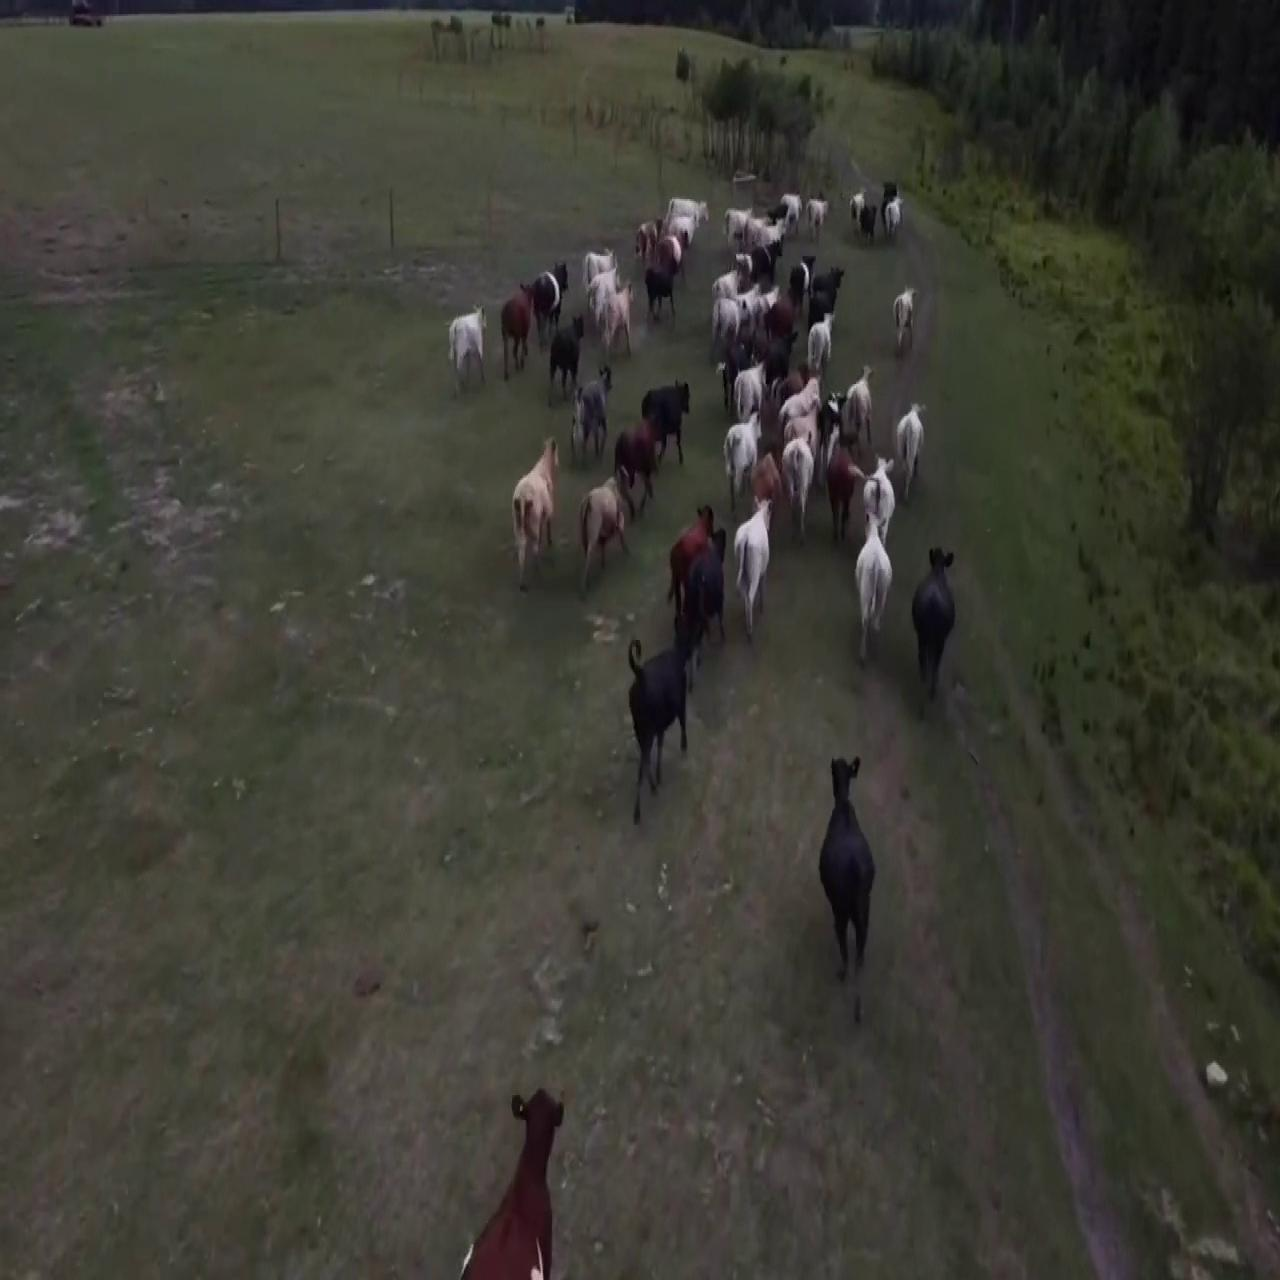cow: (459, 1047, 599, 1280), (814, 745, 880, 982), (627, 632, 697, 830), (674, 526, 734, 704), (508, 432, 558, 586), (848, 502, 894, 664), (911, 550, 958, 698), (580, 473, 636, 585), (635, 374, 692, 478), (735, 496, 775, 634), (611, 422, 661, 526), (899, 391, 938, 512), (719, 402, 762, 506), (785, 443, 823, 549), (448, 305, 490, 398), (843, 359, 883, 455), (548, 301, 584, 402), (592, 288, 639, 361), (571, 373, 608, 464), (499, 290, 531, 386), (862, 446, 894, 539), (800, 313, 841, 375), (667, 188, 710, 242), (799, 194, 834, 242), (893, 285, 920, 343)
